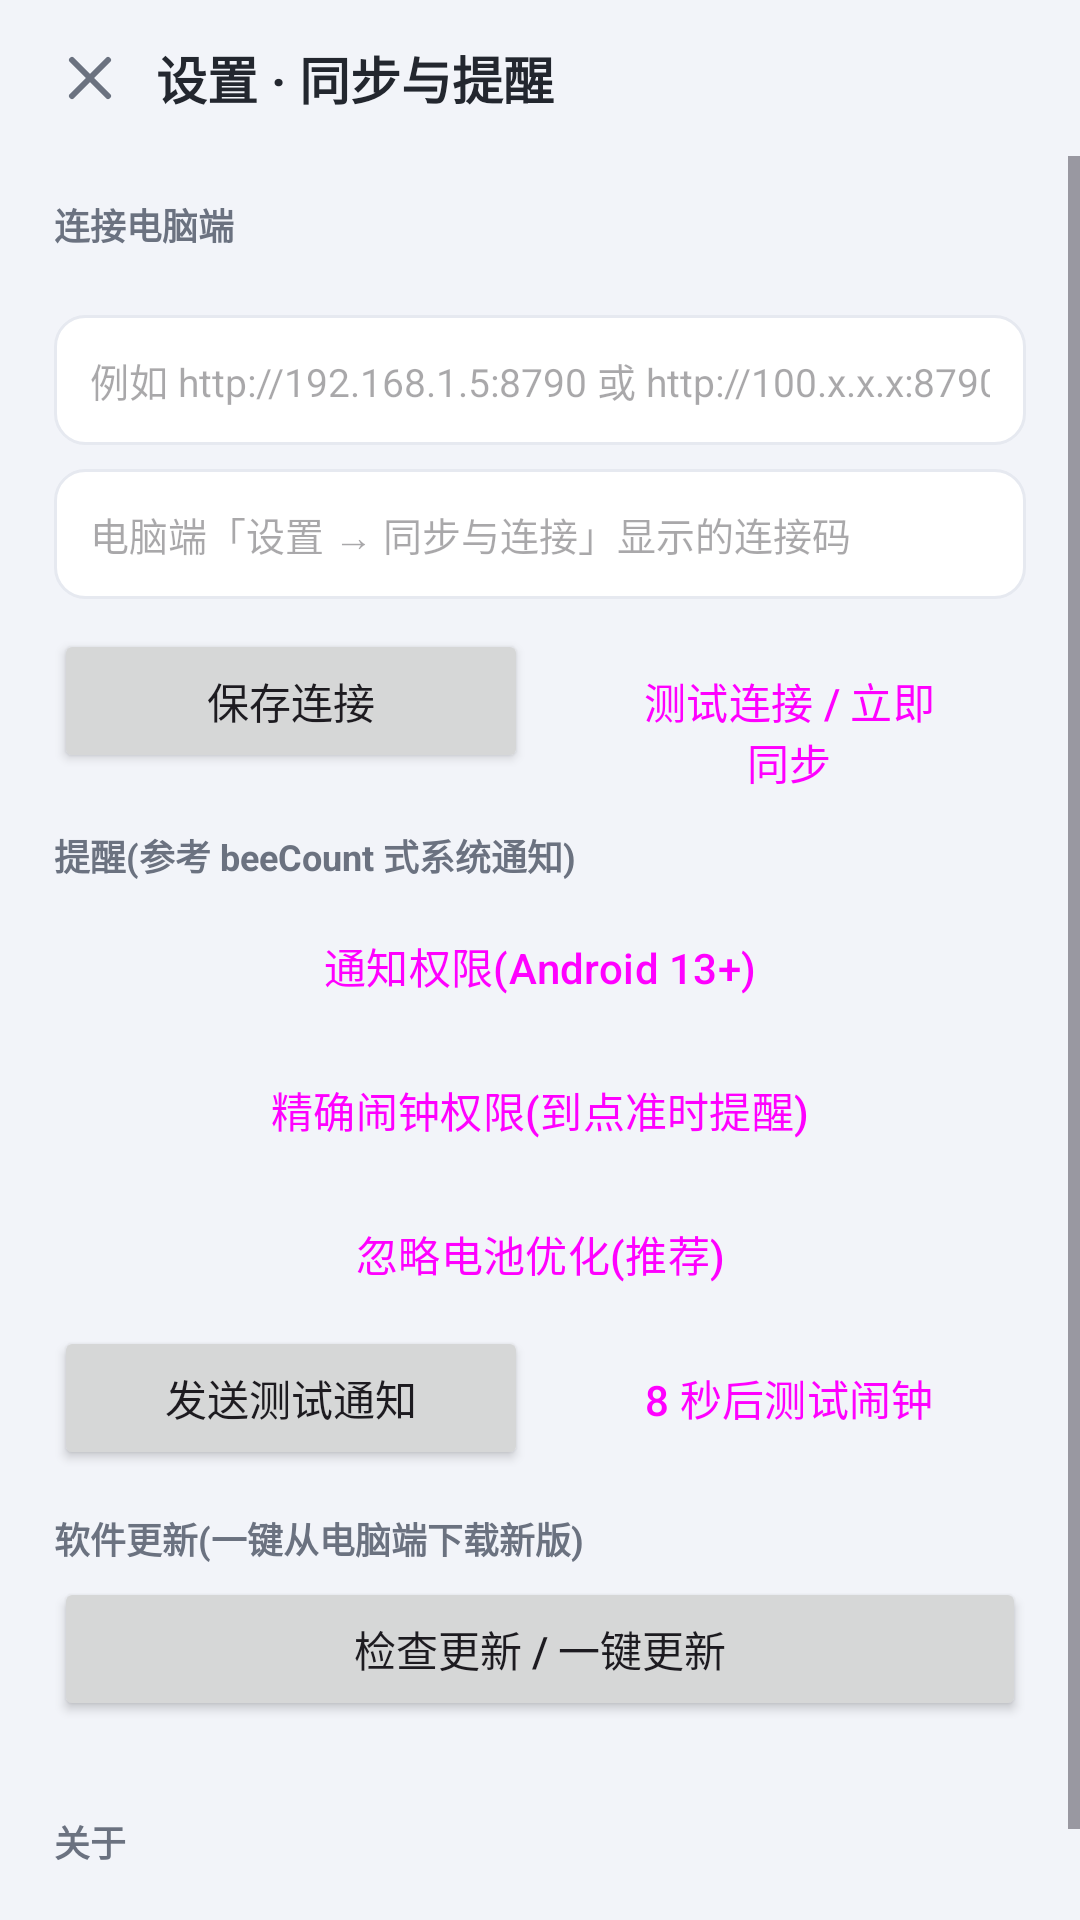

Where to tap for icons on this 1080 x 1920 app screen, as [x,y]:
返回: [90,78]
